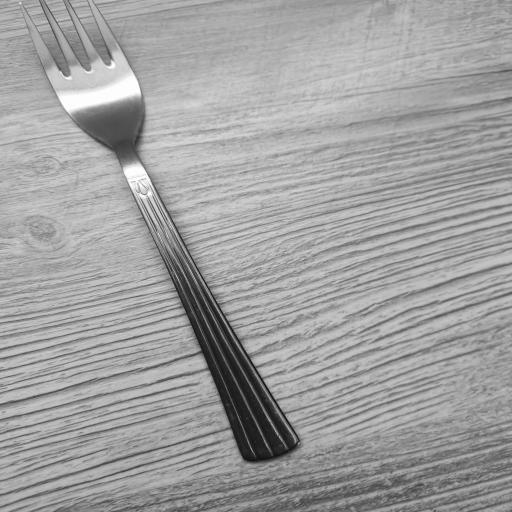fork: (17, 0, 301, 461)
